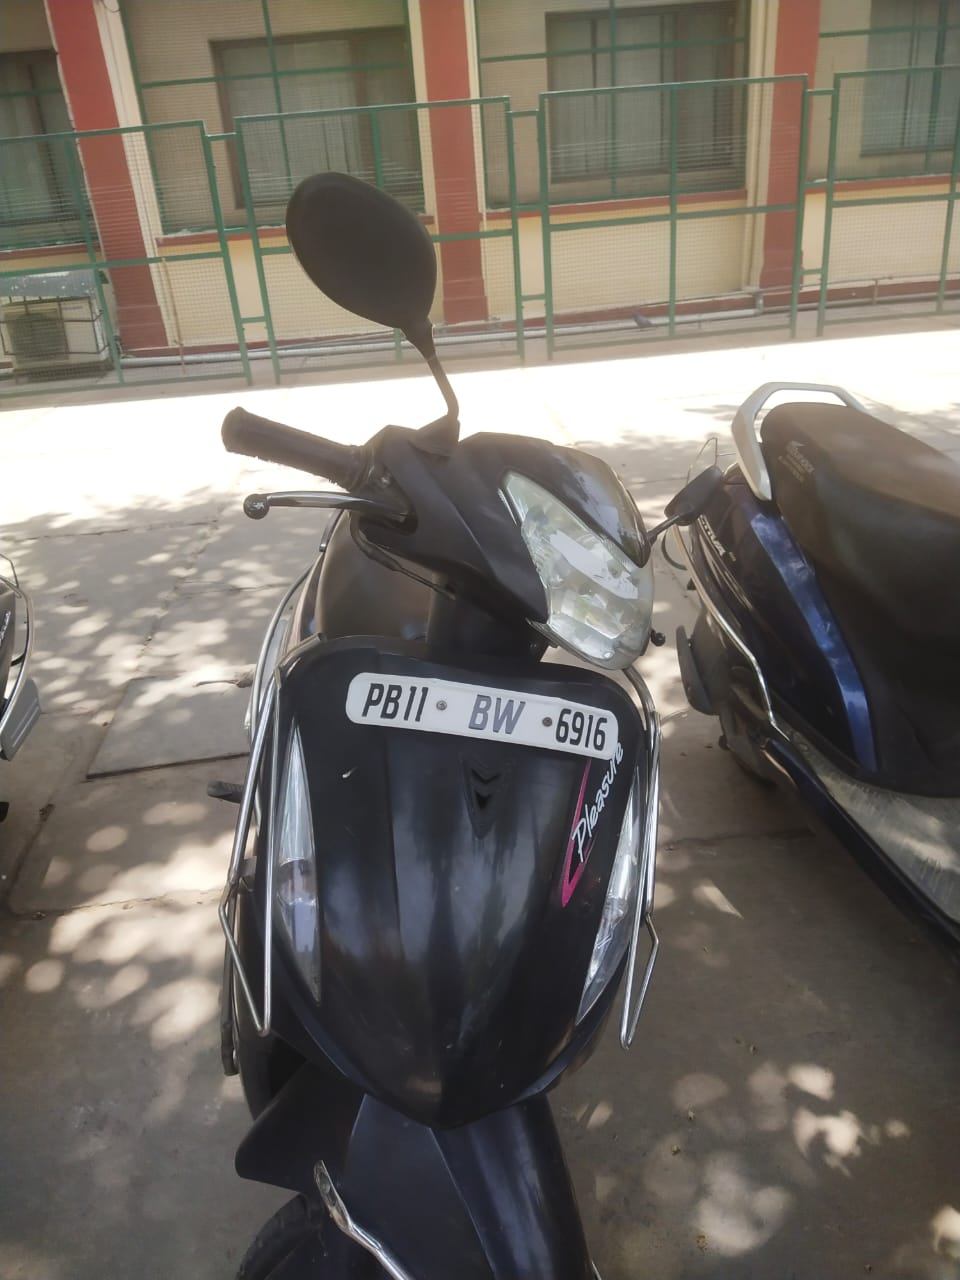license plate: (346, 672, 617, 759)
